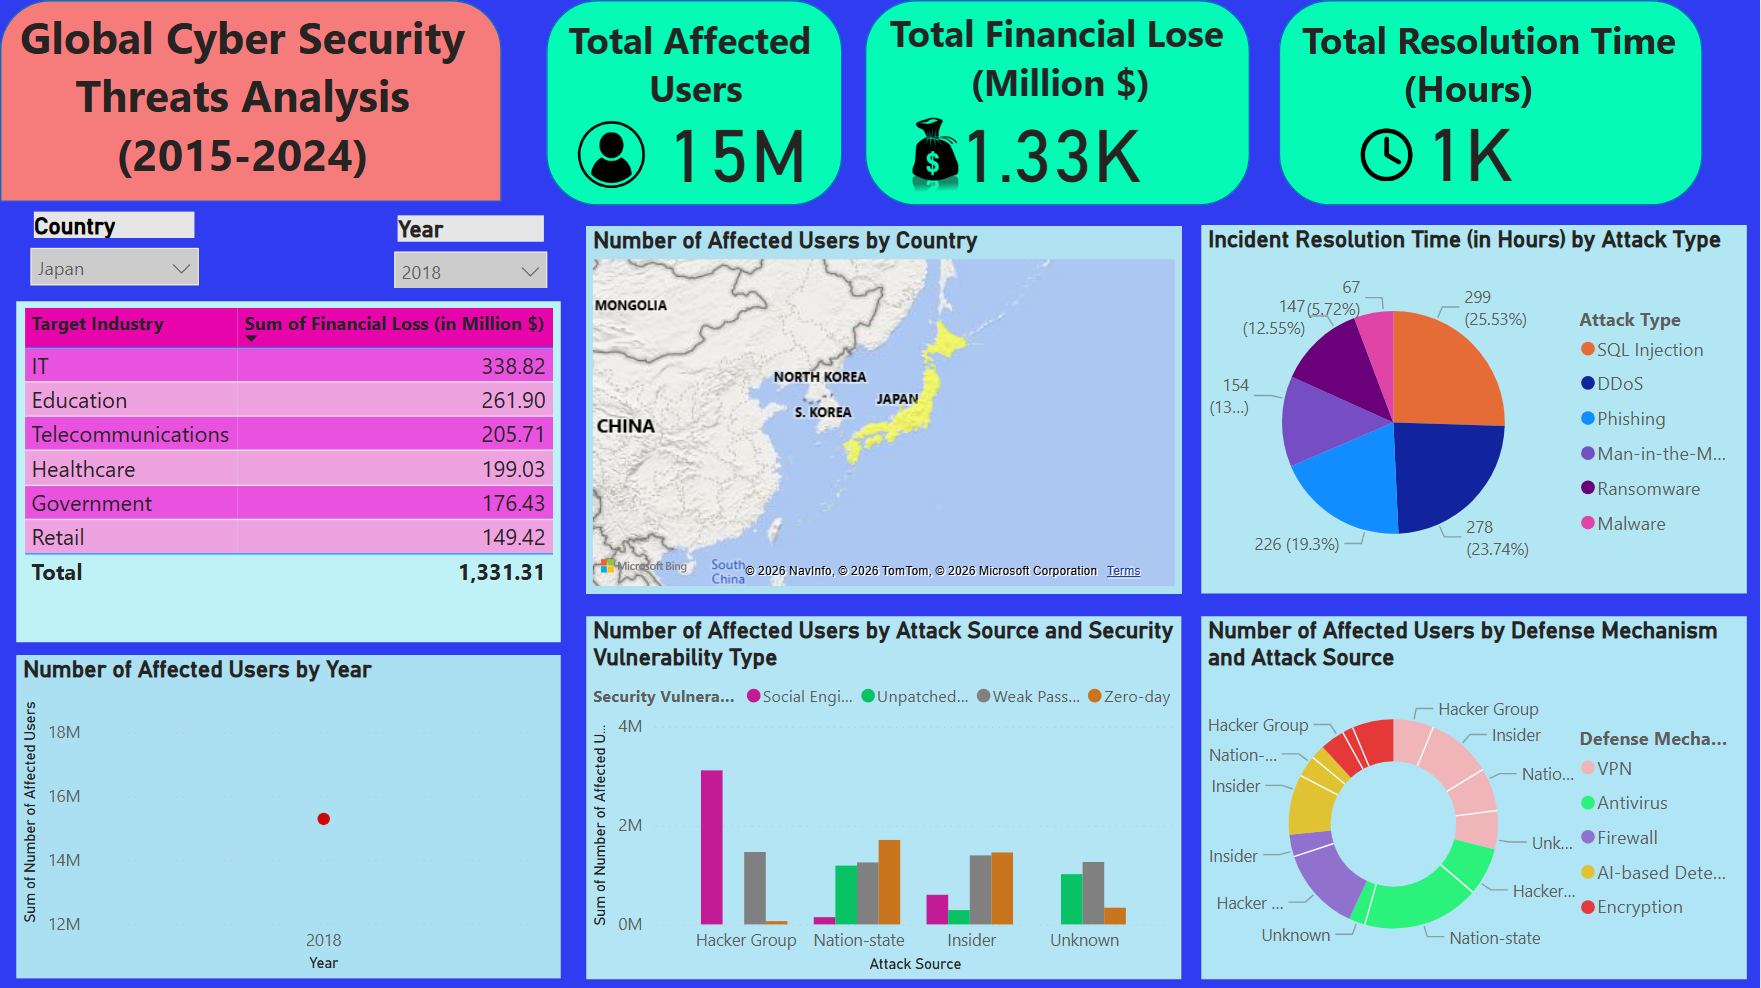

The page's visual inventory and layout, read from the dashboard file:
{"tool":"powerbi","page":{"name":"Page 1","canvas":[1280,720],"ordinal":0},"visuals":[{"type":"shape","box":[0,0,364.8,146.7],"z":500},{"type":"shape","box":[930.3,0,308.3,149.4],"z":1000},{"type":"shape","box":[628.7,0,280,149.4],"z":2000},{"type":"shape","box":[397.1,0,215.4,149.4],"z":3000},{"type":"tableEx","fields":{"Values":["Global_Cybersecurity_Threats_2015-2024.Target Industry","Sum(Global_Cybersecurity_Threats_2015-2024.Financial Loss (in Million $))"]},"box":[12.1,219.4,395.8,247.7],"z":4000},{"type":"clusteredColumnChart","title":"Number of Affected Users by Attack Source and Security Vulnerability Type","fields":{"Category":["Global_Cybersecurity_Threats_2015-2024.Attack Source"],"Series":["Global_Cybersecurity_Threats_2015-2024.Security Vulnerability Type"],"Y":["Sum(Global_Cybersecurity_Threats_2015-2024.Number of Affected Users)"]},"box":[426.2,448.6,433.2,264.1],"z":5000},{"type":"pieChart","title":"Incident Resolution Time (in Hours) by Attack Type","fields":{"Y":["Sum(Global_Cybersecurity_Threats_2015-2024.Incident Resolution Time (in Hours))"],"Category":["Global_Cybersecurity_Threats_2015-2024.Attack Type"]},"box":[873.4,163.5,396.9,268.3],"z":6000},{"type":"donutChart","title":"Number of Affected Users by Defense Mechanism and Attack Source","fields":{"Category":["Global_Cybersecurity_Threats_2015-2024.Defense Mechanism Used"],"Series":["Global_Cybersecurity_Threats_2015-2024.Attack Source"],"Y":["Sum(Global_Cybersecurity_Threats_2015-2024.Number of Affected Users)"]},"box":[873.4,448.6,396.9,264.1],"z":7000},{"type":"filledMap","title":"Number of Affected Users by Country","fields":{"Category":["Global_Cybersecurity_Threats_2015-2024.Country"]},"box":[426.2,164.9,433.2,266.9],"z":8000},{"type":"cardVisual","fields":{"Data":["Sum(Global_Cybersecurity_Threats_2015-2024.Number of Affected Users)"]},"box":[467.1,41.7,206,133.3],"z":9000},{"type":"cardVisual","fields":{"Data":["Sum(Global_Cybersecurity_Threats_2015-2024.Financial Loss (in Million $))"]},"box":[679.9,41.7,239.6,134.6],"z":10000},{"type":"textbox","box":[0,0,352.7,140],"z":11000},{"type":"cardVisual","fields":{"Data":["Sum(Global_Cybersecurity_Threats_2015-2024.Incident Resolution Time (in Hours))"]},"box":[1018.7,41.9,234.8,132.8],"z":12000},{"type":"textbox","box":[407.9,5.4,195.2,80.8],"z":13000},{"type":"image","box":[407.9,80.8,72.7,63.3],"z":14000},{"type":"textbox","box":[642.2,1.3,278.7,80.8],"z":15000},{"type":"textbox","box":[941.8,5.6,296.2,85.2],"z":16000},{"type":"image","box":[648.9,79.4,61.9,67.3],"z":17000},{"type":"image","box":[982.4,82.4,51.7,60.1],"z":18000},{"type":"lineChart","title":"Number of Affected Users by Year","fields":{"Y":["Sum(Global_Cybersecurity_Threats_2015-2024.Number of Affected Users)"],"Category":["Global_Cybersecurity_Threats_2015-2024.Year"]},"box":[12.1,476.6,395.8,235.6],"z":19000},{"type":"slicer","fields":{"Values":["Global_Cybersecurity_Threats_2015-2024.Country"]},"box":[12.1,149.4,142.7,60.6],"z":20000},{"type":"slicer","fields":{"Values":["Global_Cybersecurity_Threats_2015-2024.Year"]},"box":[276,152.1,131.9,57.9],"z":20001}]}

Visuals, with their boxes in screenshot pixels (x1, y1, x2, y2), scaled from the page's 1280x720 canvas onto the 1761x988 screenshot:
shape: pyautogui.locateOnScreen(0, 0, 502, 201)
shape: pyautogui.locateOnScreen(1280, 0, 1704, 205)
shape: pyautogui.locateOnScreen(865, 0, 1250, 205)
shape: pyautogui.locateOnScreen(546, 0, 843, 205)
tableEx - Global_Cybersecurity_Threats_2015-2024.Target Industry x Sum(Global_Cybersecurity_Threats_2015-2024.Financial Loss (in Million $)): pyautogui.locateOnScreen(17, 301, 561, 641)
"Number of Affected Users by Attack Source and Security Vulnerability Type" clusteredColumnChart: pyautogui.locateOnScreen(586, 616, 1182, 978)
"Incident Resolution Time (in Hours) by Attack Type" pieChart: pyautogui.locateOnScreen(1202, 224, 1748, 593)
"Number of Affected Users by Defense Mechanism and Attack Source" donutChart: pyautogui.locateOnScreen(1202, 616, 1748, 978)
"Number of Affected Users by Country" filledMap: pyautogui.locateOnScreen(586, 226, 1182, 593)
cardVisual - Sum(Global_Cybersecurity_Threats_2015-2024.Number of Affected Users): pyautogui.locateOnScreen(643, 57, 926, 240)
cardVisual - Sum(Global_Cybersecurity_Threats_2015-2024.Financial Loss (in Million $)): pyautogui.locateOnScreen(935, 57, 1265, 242)
textbox: pyautogui.locateOnScreen(0, 0, 485, 192)
cardVisual - Sum(Global_Cybersecurity_Threats_2015-2024.Incident Resolution Time (in Hours)): pyautogui.locateOnScreen(1402, 57, 1725, 240)
textbox: pyautogui.locateOnScreen(561, 7, 830, 118)
image: pyautogui.locateOnScreen(561, 111, 661, 198)
textbox: pyautogui.locateOnScreen(884, 2, 1267, 113)
textbox: pyautogui.locateOnScreen(1296, 8, 1703, 125)
image: pyautogui.locateOnScreen(893, 109, 978, 201)
image: pyautogui.locateOnScreen(1352, 113, 1423, 196)
"Number of Affected Users by Year" lineChart: pyautogui.locateOnScreen(17, 654, 561, 977)
slicer - Global_Cybersecurity_Threats_2015-2024.Country: pyautogui.locateOnScreen(17, 205, 213, 288)
slicer - Global_Cybersecurity_Threats_2015-2024.Year: pyautogui.locateOnScreen(380, 209, 561, 288)
